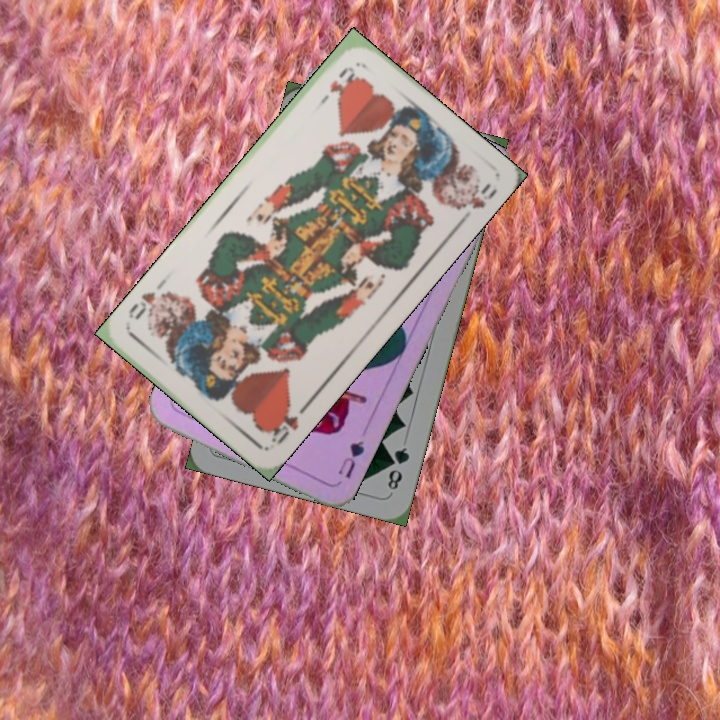G8: (383, 443, 412, 493)
GU: (334, 433, 367, 481)
HO: (264, 400, 311, 447), (314, 62, 358, 110)
